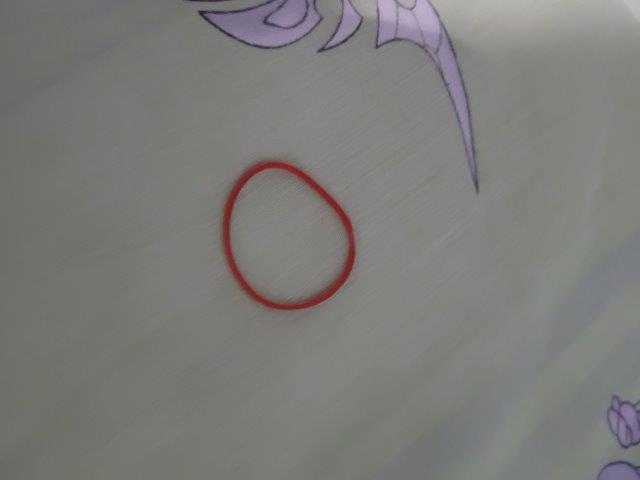karet: (221, 157, 358, 311)
